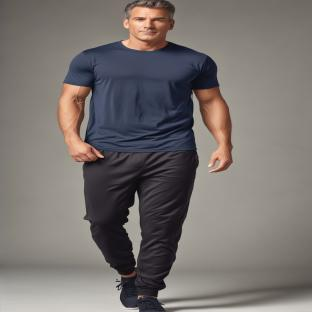Human: (58, 0, 233, 312)
